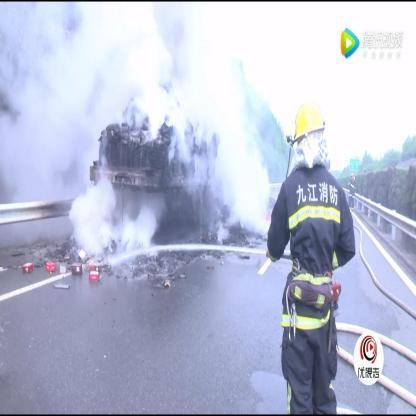smoke: (2, 3, 78, 207), (177, 10, 245, 185), (82, 6, 174, 135), (70, 180, 114, 262), (223, 168, 270, 236), (118, 213, 161, 257)
